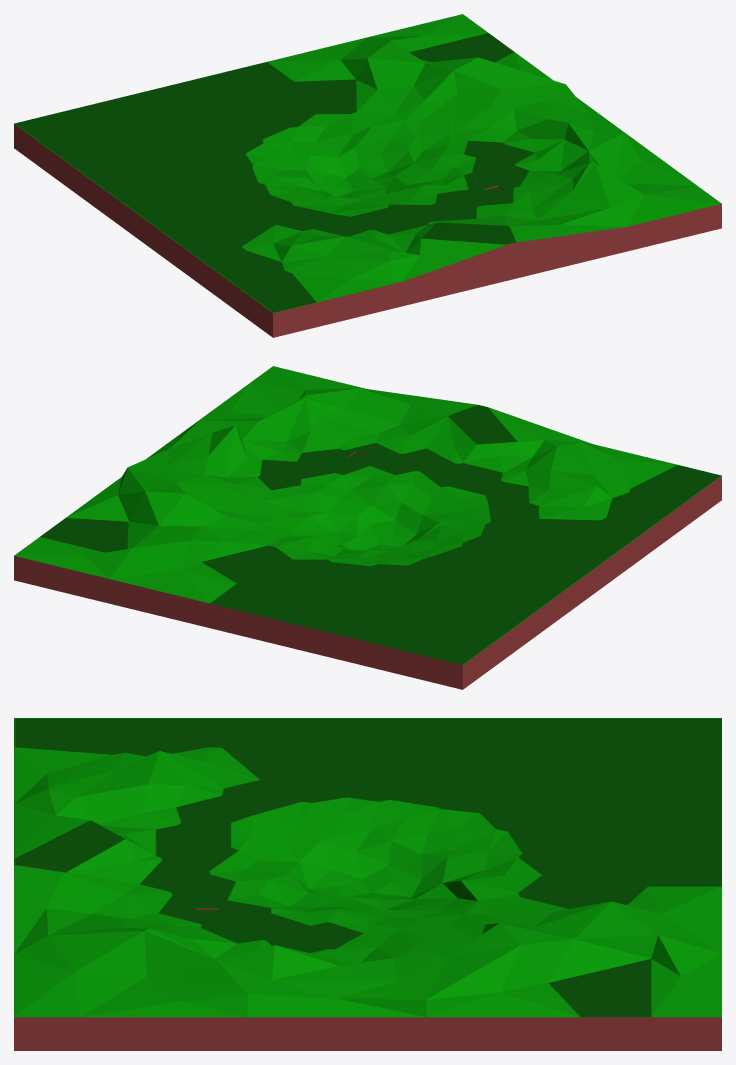
File: terrain-textured.obj
The picture shows the model from 3 angles, top to bottom: view 1: azimuth 30°, elevation 25°; view 2: azimuth 150°, elevation 25°; view 3: azimuth 270°, elevation 25°; orthographic projection. The views are drawn at different scales.
Visible parts, largest first — view 1: mesh-1-terrain_mtl, mesh-1-dirt_mtl, mesh-1-dirt_mtl-terrain_mtl; view 2: mesh-1-terrain_mtl, mesh-1-dirt_mtl; view 3: mesh-1-terrain_mtl, mesh-1-dirt_mtl, mesh-1-dirt_mtl-terrain_mtl.
Part boxes in pixels (x1,y1,x2,y2): mesh-1-terrain_mtl: [14, 14, 721, 313]; mesh-1-dirt_mtl: [14, 124, 721, 337]; mesh-1-dirt_mtl-terrain_mtl: [338, 36, 588, 156]; mesh-1-terrain_mtl: [14, 366, 721, 665]; mesh-1-dirt_mtl: [14, 451, 721, 689]; mesh-1-terrain_mtl: [14, 718, 721, 1017]; mesh-1-dirt_mtl: [14, 908, 721, 1050]; mesh-1-dirt_mtl-terrain_mtl: [337, 880, 680, 1017].
Bounding box in the file's own units: 3072 × 323 × 3072.
3 materials, 2 textured.
